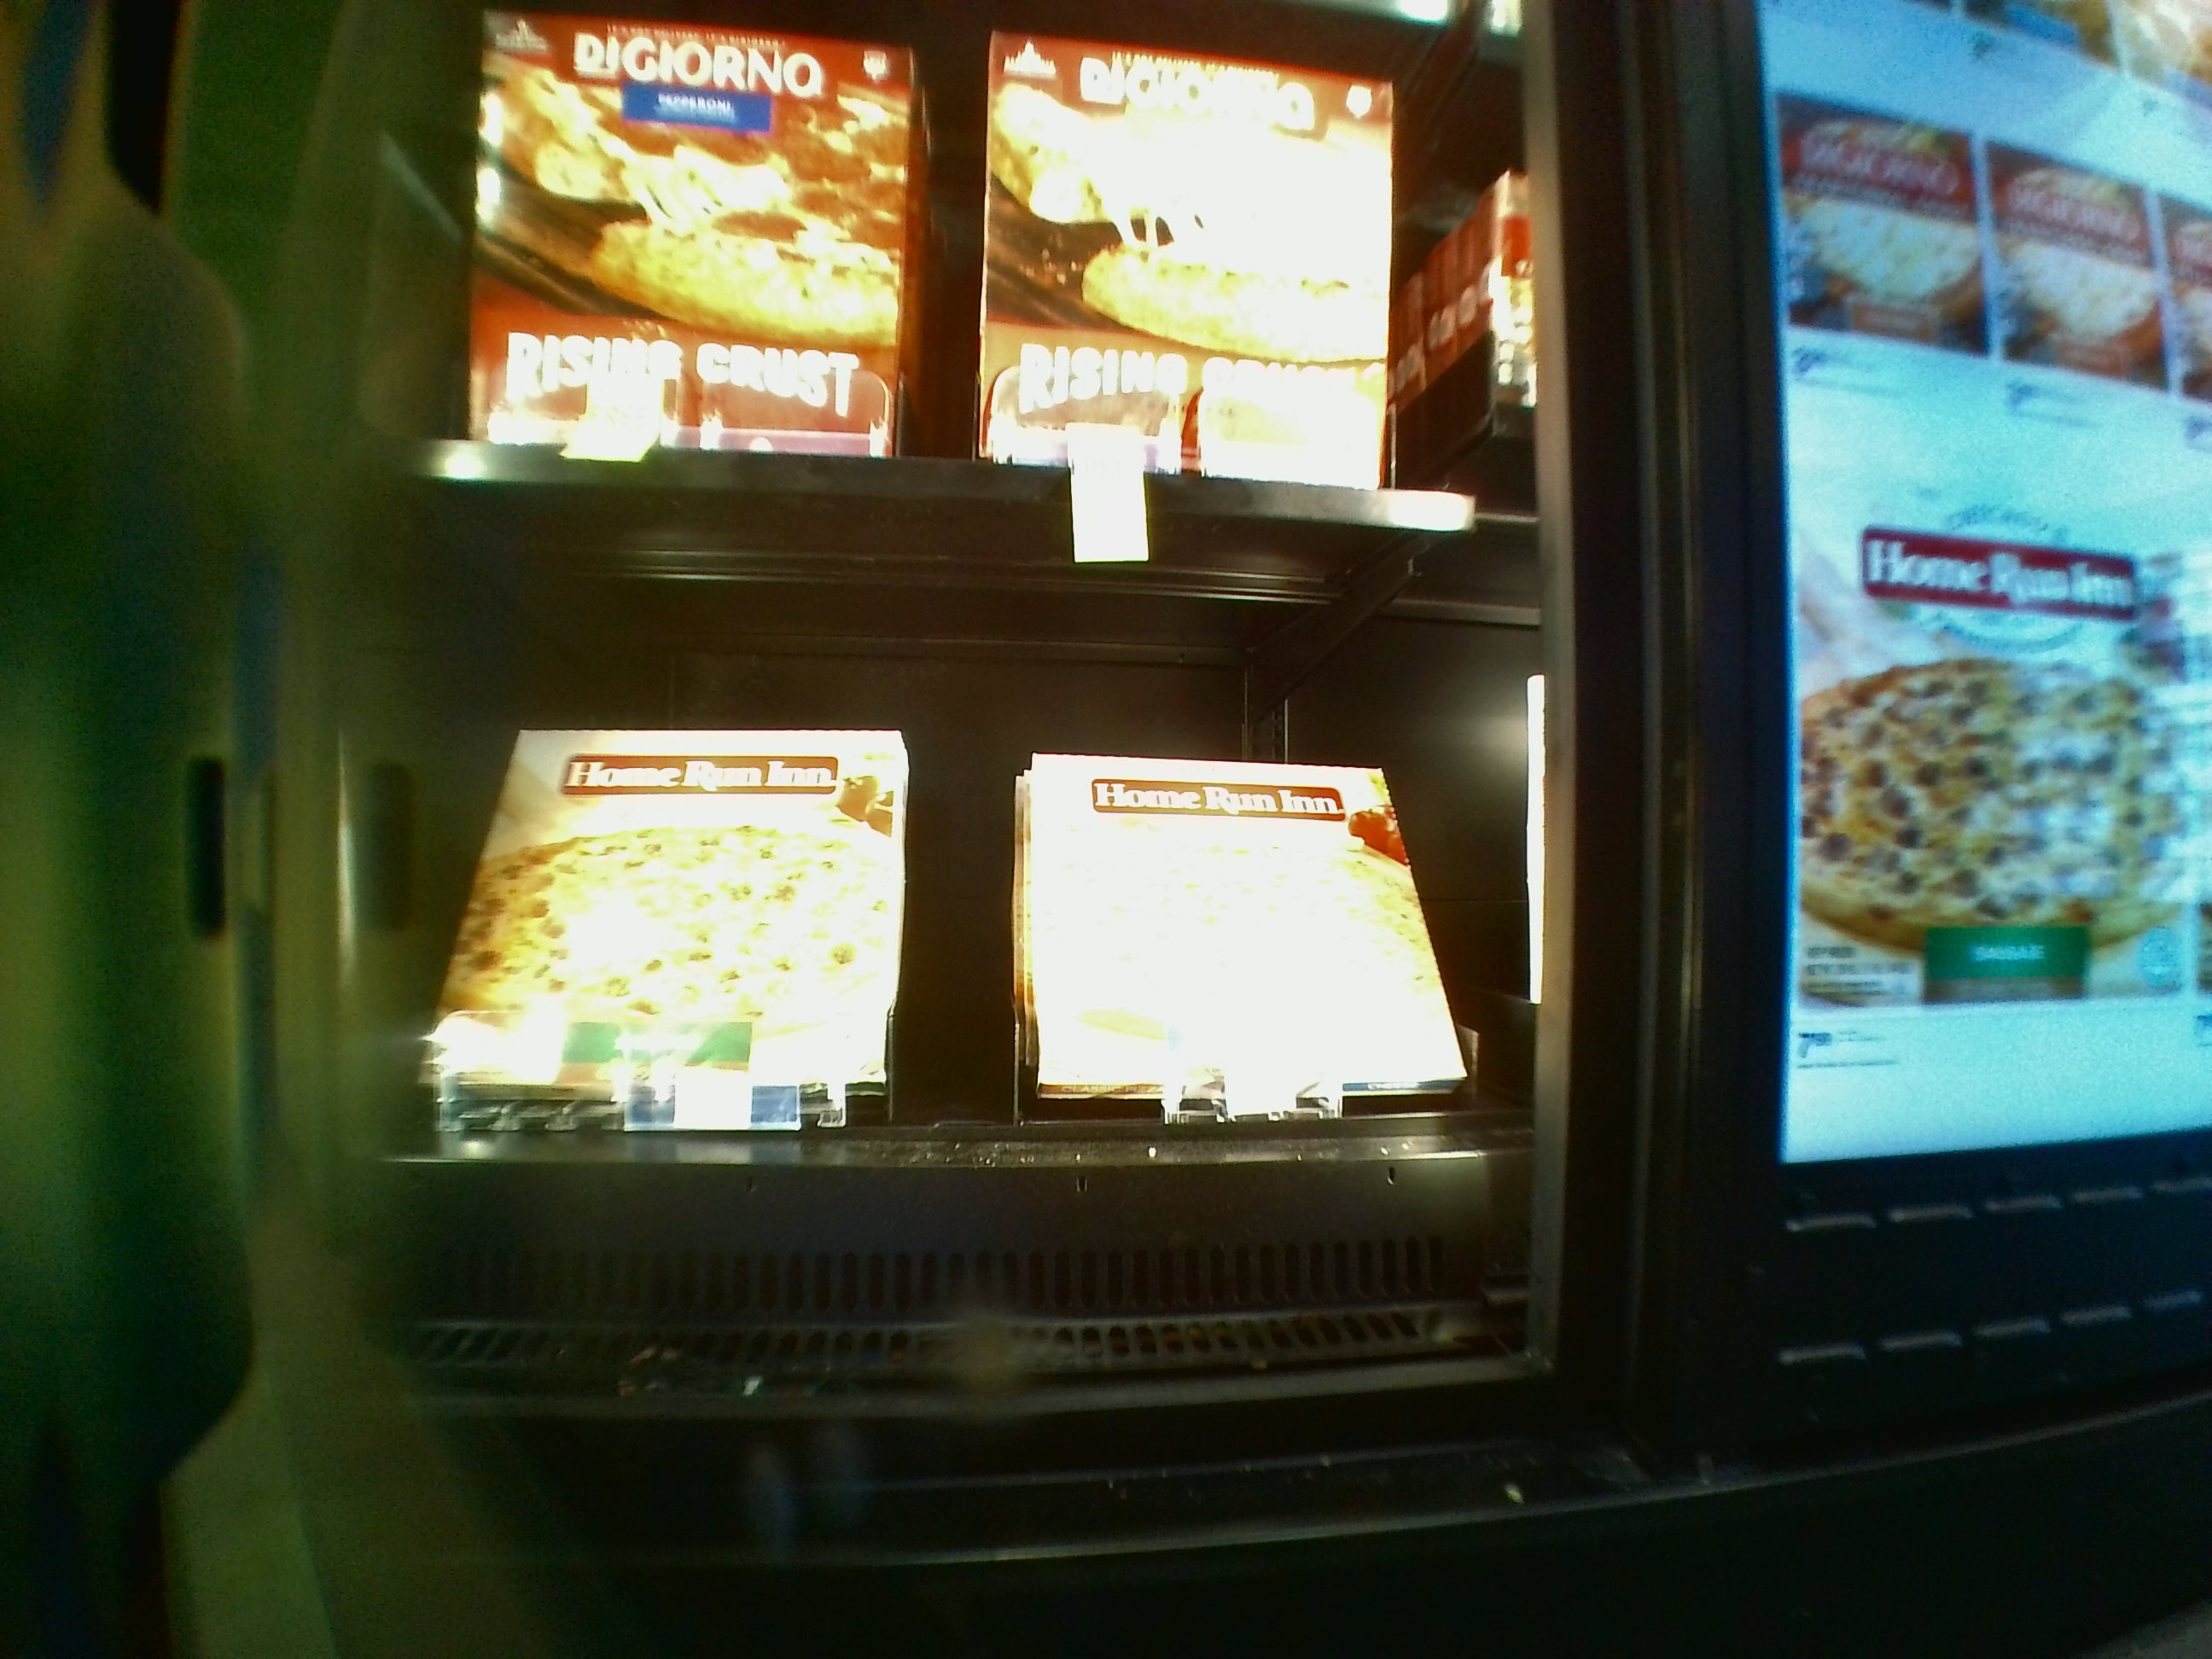shelf: (355, 549, 1521, 1319)
